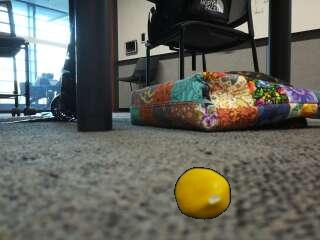lemon: (176, 169, 230, 220)
